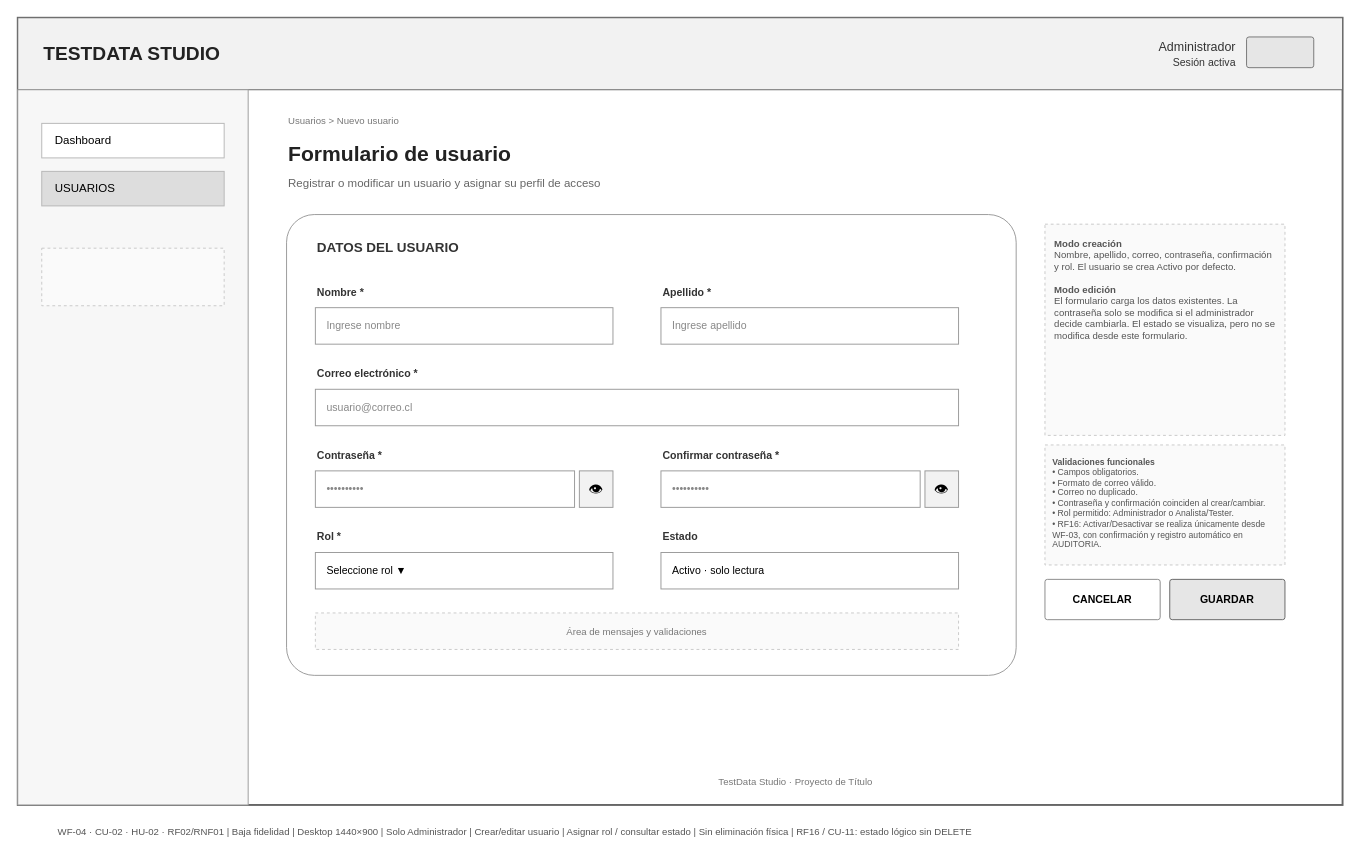
This 1359x859 diagram has some shape labels left out. The shapes that lost their labels are listed below. From the top down, each one's box as (x1, y1, x2, y2) in pixels, then its label:
(1246, 36, 1314, 68): SALIR
(41, 247, 224, 306): Pantalla disponible solo para perfil Administrador
